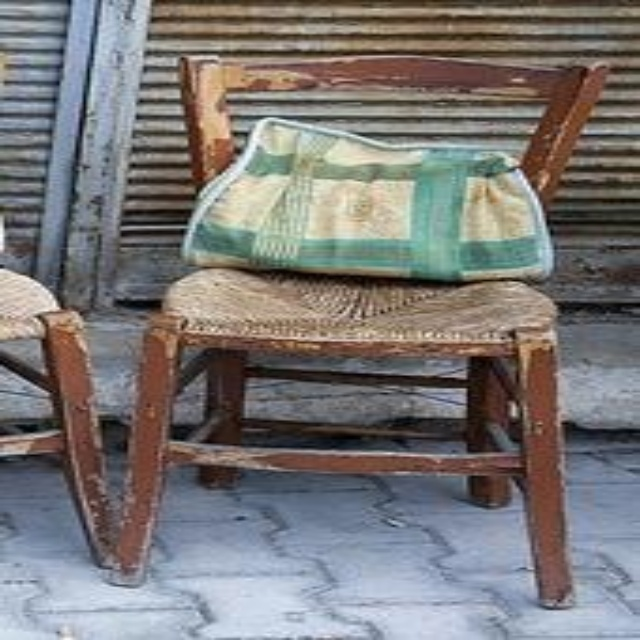obstacle: (117, 58, 599, 606)
